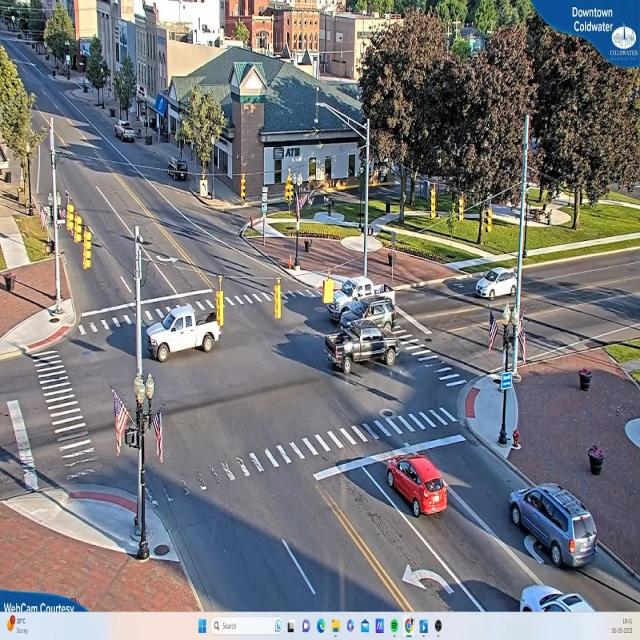car: (506, 483, 599, 575), (149, 305, 221, 364), (386, 455, 449, 519), (324, 318, 396, 371), (326, 270, 397, 320), (520, 592, 614, 611), (341, 298, 398, 329), (474, 267, 518, 303), (115, 123, 136, 143)
